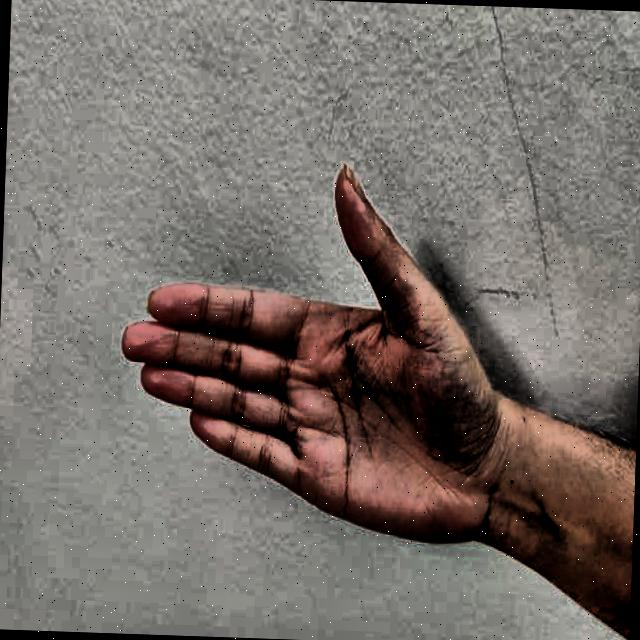Aa: (95, 138, 503, 568)
